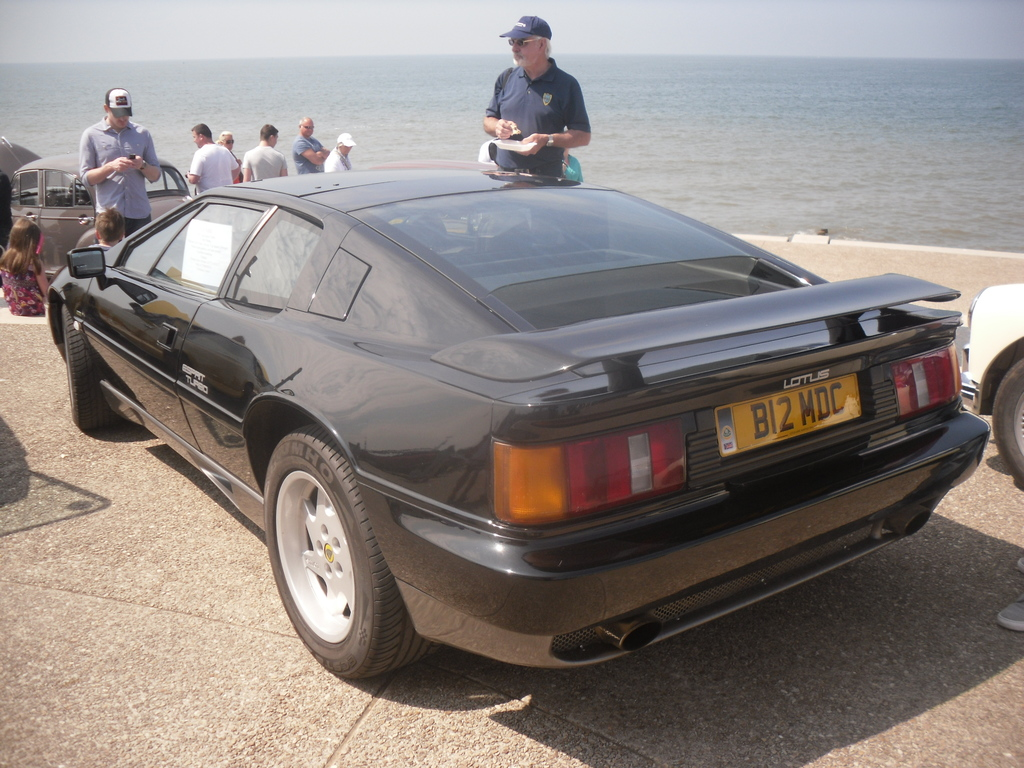Person: (483, 16, 590, 175), (79, 89, 161, 234), (0, 217, 47, 316), (186, 124, 240, 196), (241, 123, 286, 181), (291, 117, 330, 171), (217, 131, 243, 182), (322, 131, 356, 169), (90, 207, 123, 245), (0, 169, 11, 244), (565, 155, 582, 180)
